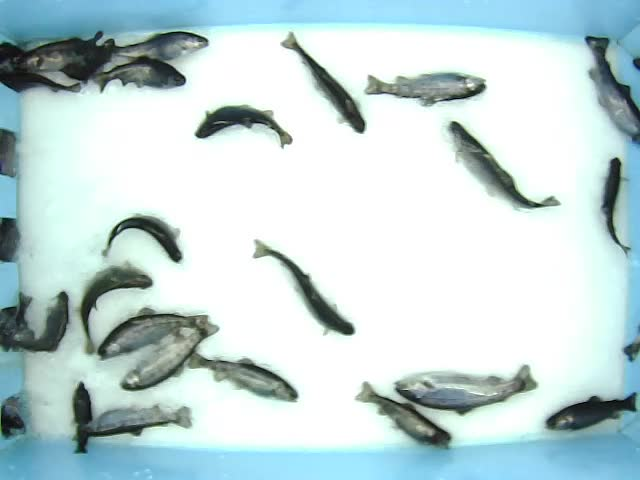fish: (444, 119, 562, 213), (251, 234, 356, 338), (279, 32, 368, 136), (393, 364, 538, 418), (118, 318, 220, 392), (78, 259, 154, 357), (354, 379, 453, 452), (582, 34, 640, 148), (96, 306, 209, 362), (187, 351, 299, 404), (194, 99, 294, 149), (95, 211, 185, 264), (363, 71, 488, 108), (79, 400, 192, 438), (544, 391, 639, 434), (91, 54, 188, 94), (104, 26, 210, 61), (599, 155, 633, 261), (69, 380, 93, 455)
